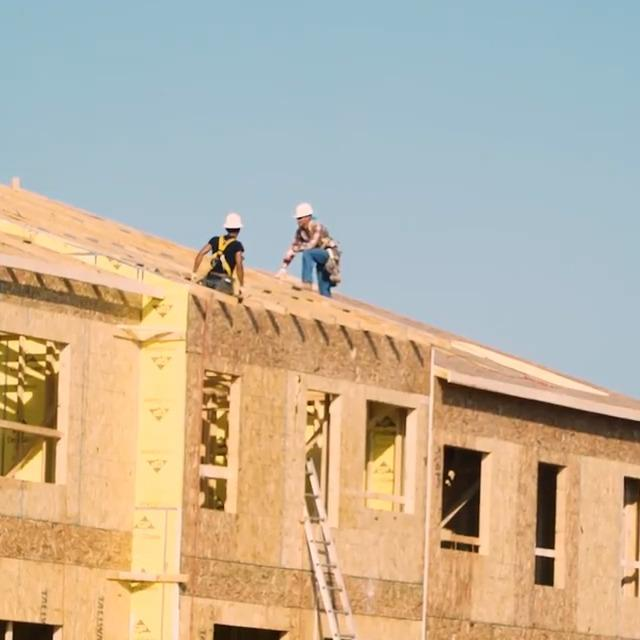Gloves: (275, 269, 287, 280), (238, 286, 245, 299), (190, 273, 198, 282)
Hardhat: (293, 203, 314, 217)
Ladder: (303, 458, 369, 640)
NO-Mask: (298, 221, 308, 227)
NO-Safety Vest: (211, 236, 238, 278), (300, 221, 335, 248)
Person: (275, 203, 341, 297), (190, 213, 245, 298)
